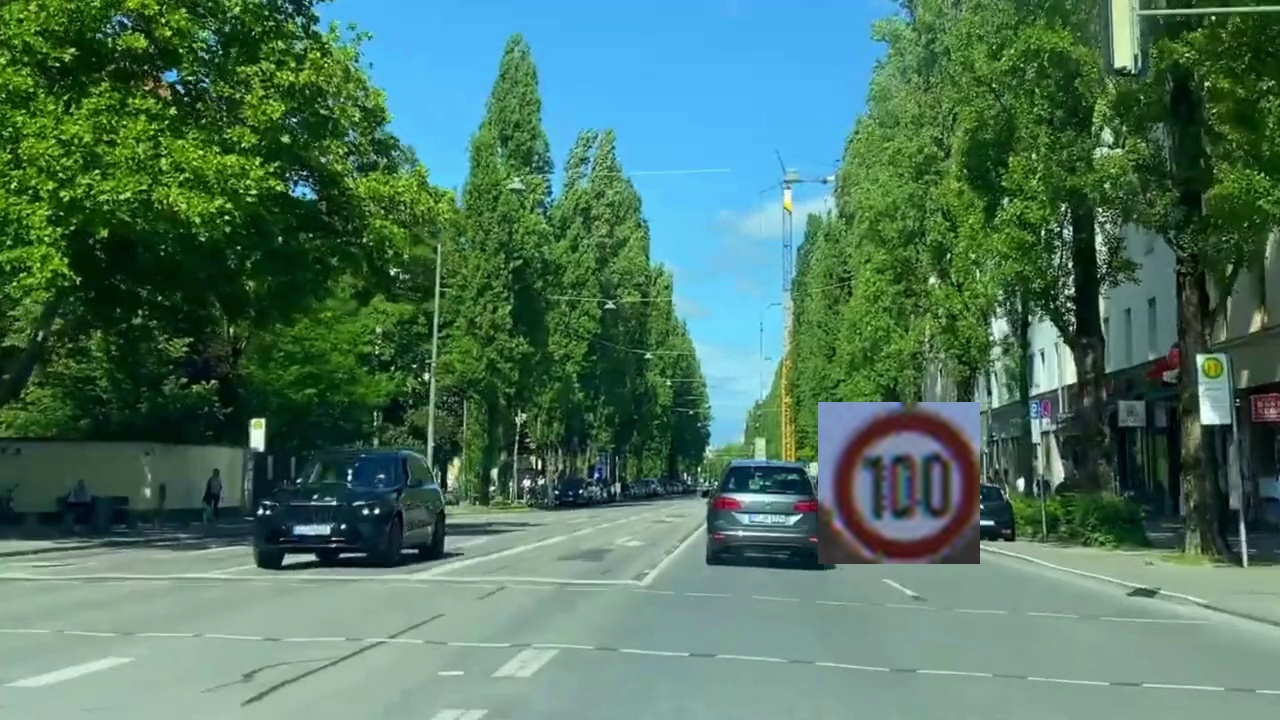Speed 100: (818, 402, 980, 564)
